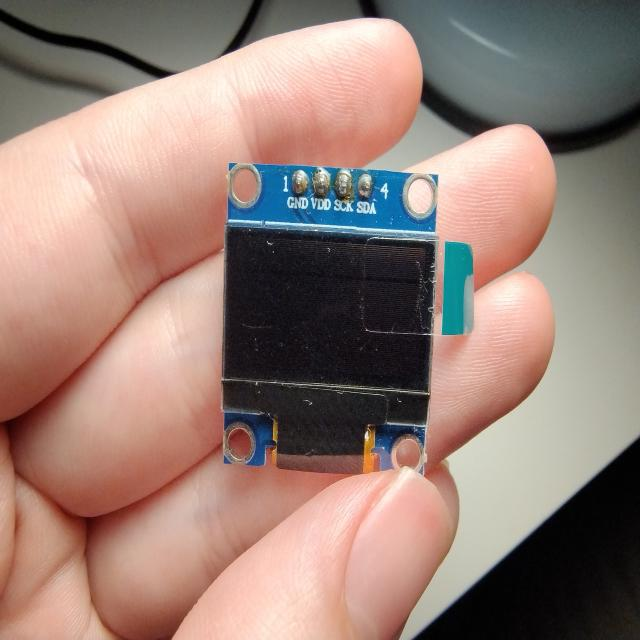oled: (218, 149, 482, 485)
